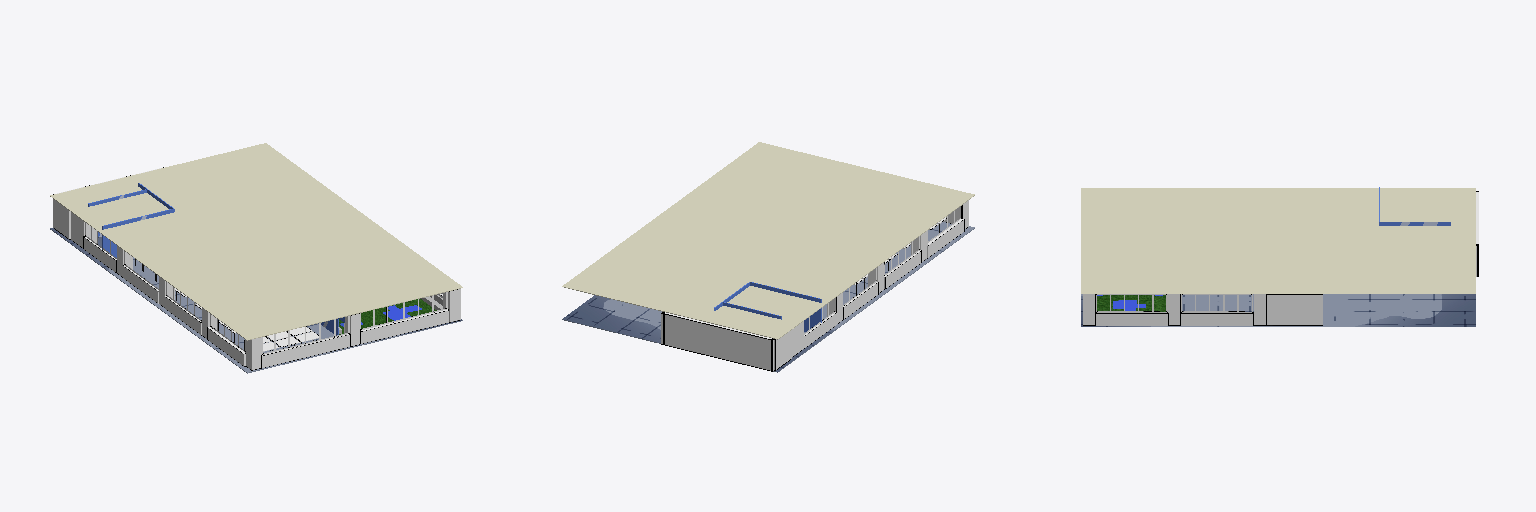
3 views of the same model, side by side, from view 1: azimuth 30°, elevation 25°; view 2: azimuth 150°, elevation 25°; view 3: azimuth 270°, elevation 25° (orthographic).
Parts seen in each view (by area): view 1: Techo_Cube.029, pared, Suelo_Cube, cristalera_entrada_Cube.001, comunicacion_Cylinder.026; view 2: Techo_Cube.029, pared, Suelo_Cube, cristalera_entrada_Cube.001; view 3: Techo_Cube.029, Suelo_Cube, pared.
Part boxes in pixels (x1,y1,x2,y2): Techo_Cube.029: (50,143,462,340); pared: (53,167,460,370); Suelo_Cube: (50,228,462,373); cristalera_entrada_Cube.001: (88,183,174,257); comunicacion_Cylinder.026: (244,326,318,351); Techo_Cube.029: (562,142,974,339); pared: (661,200,968,371); Suelo_Cube: (562,222,974,372); cristalera_entrada_Cube.001: (714,282,821,331); Techo_Cube.029: (1081,188,1475,293); Suelo_Cube: (1081,294,1475,326); pared: (1083,191,1478,325).
Size of the model in its own units: 9.76 by 1.61 by 15.54.
10 materials, 5 textured.